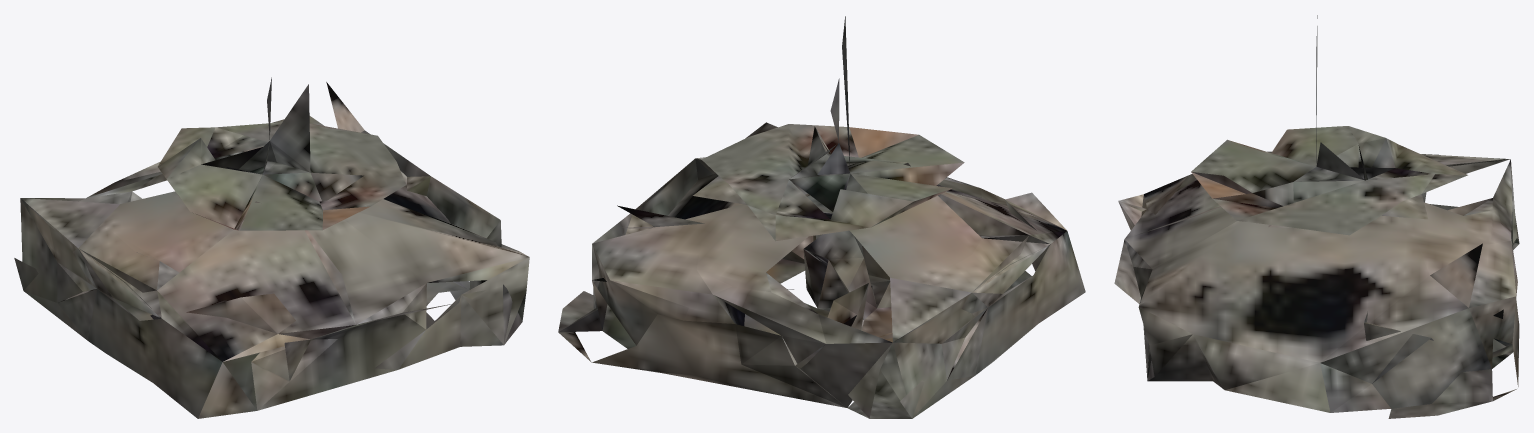
3 views of the same model, side by side, from view 1: azimuth 30°, elevation 25°; view 2: azimuth 150°, elevation 25°; view 3: azimuth 270°, elevation 25° (orthographic). The views are drawn at different scales.
Size of the model in its own units: 15.57 by 12.07 by 14.64.
1 material, 1 textured.
